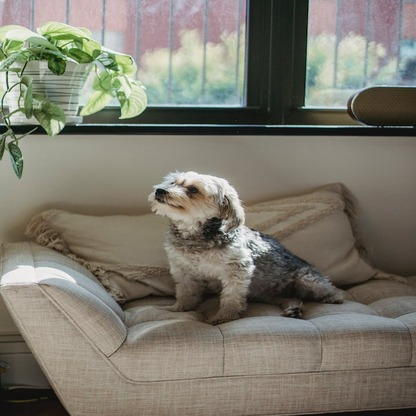yorkshire: (147, 169, 353, 326)
